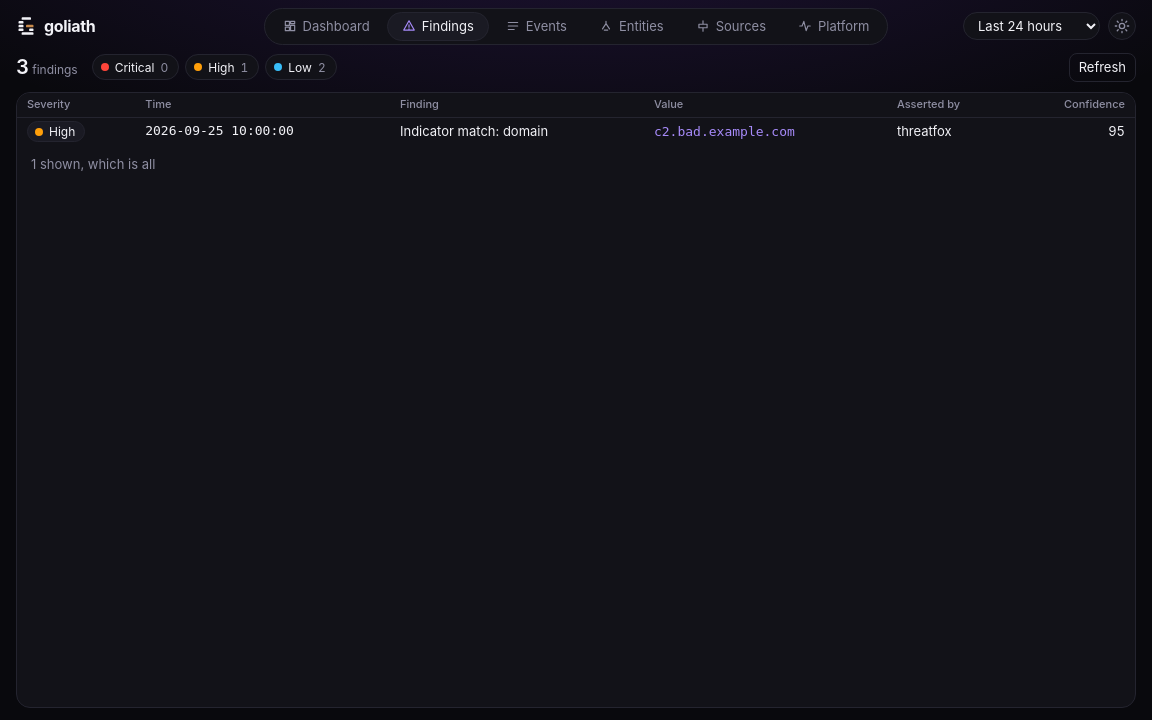
Test case: the queue of findings › asks again for the severities chosen, and for a value from its menu
Click the button "High 1": [222, 67] box [185,54,259,80]
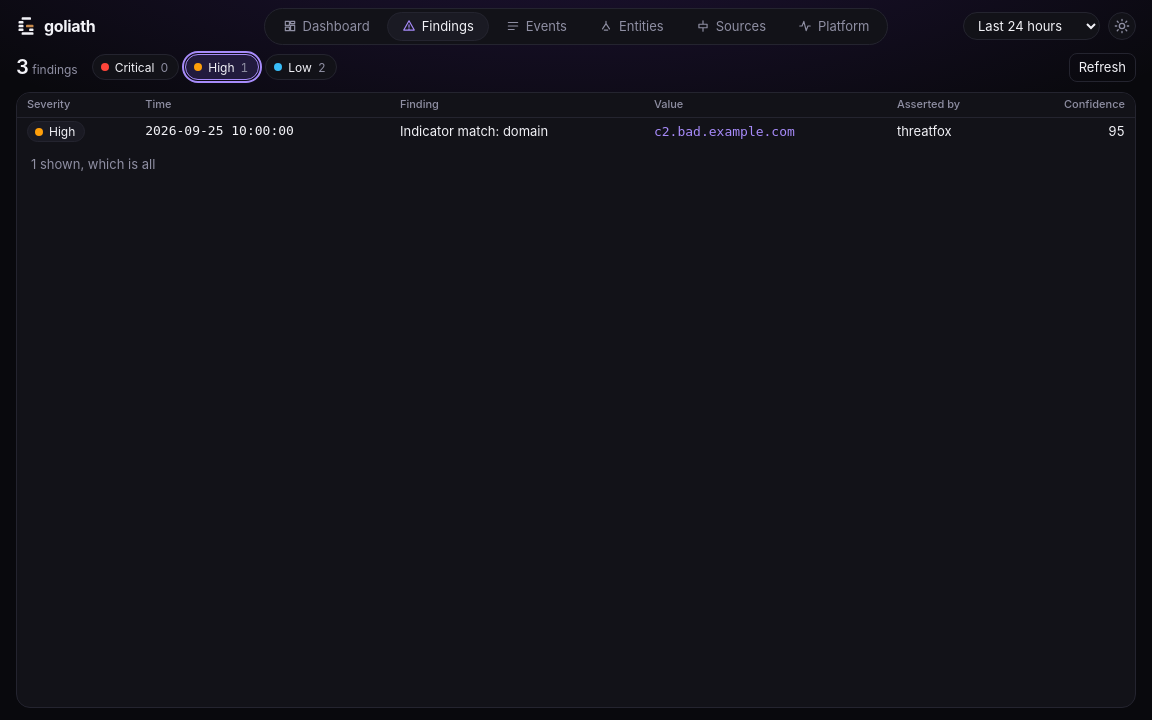
Click the button "c2.bad.example.com": [724, 132] box [650,123,799,141]
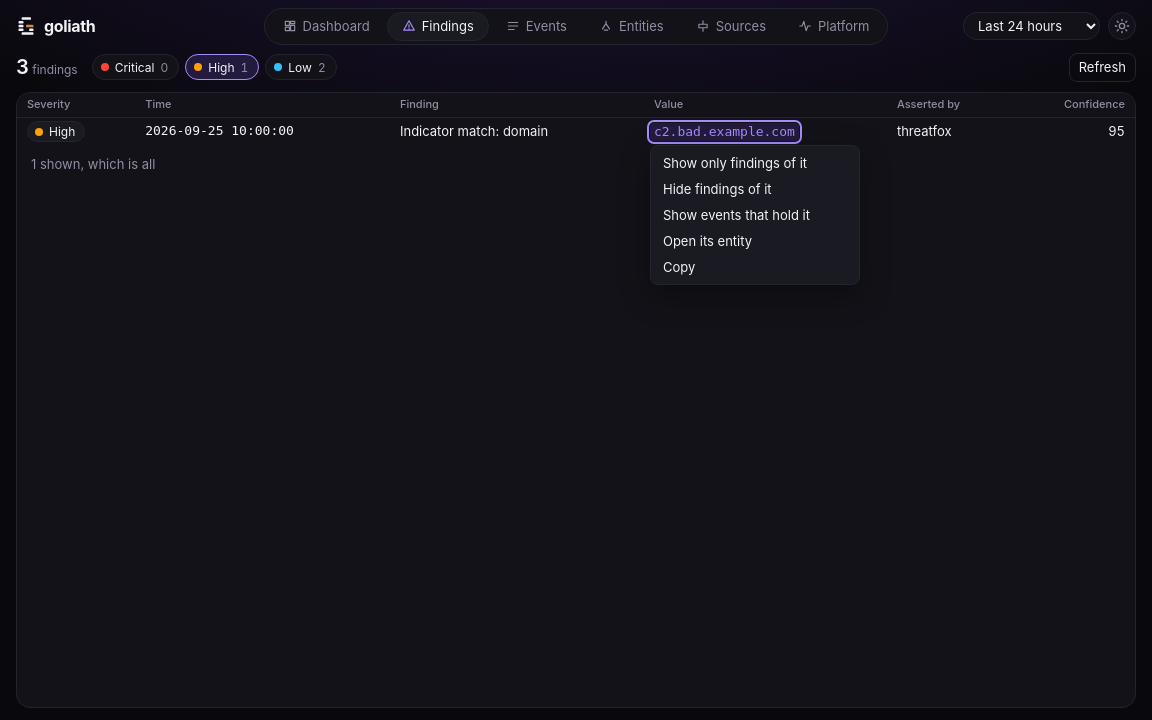
Click the menu item "Show only findings of it": [755, 164] box [655,150,855,176]
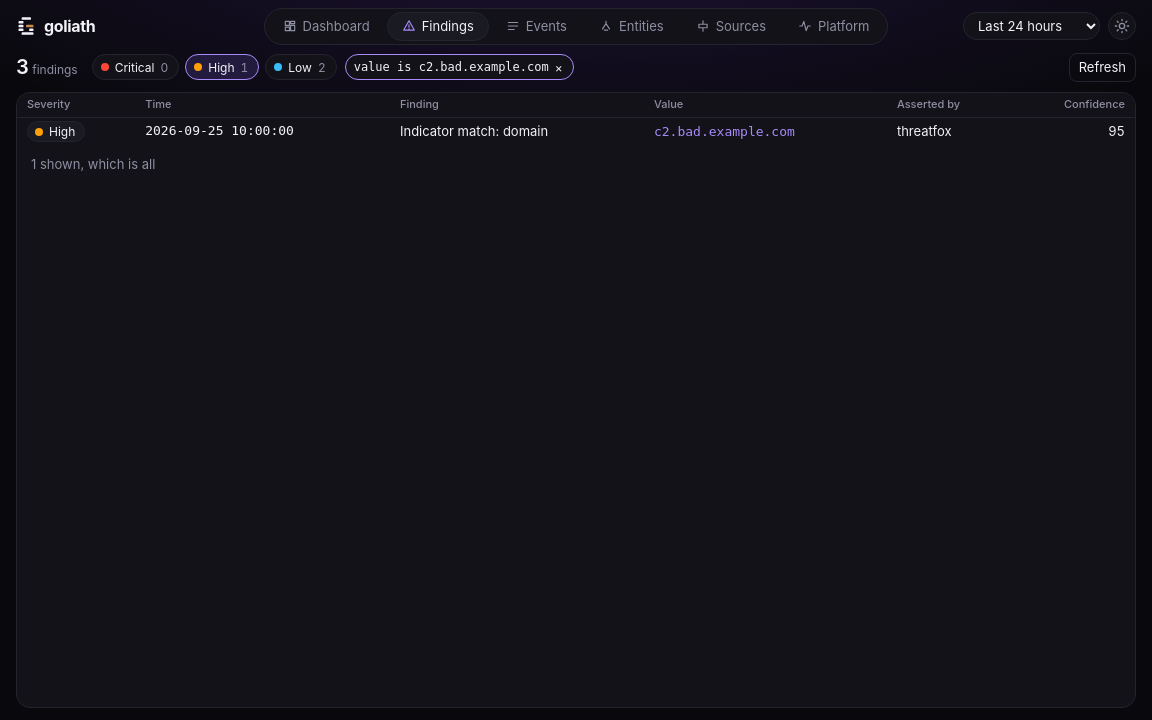
Check: the button titled "Remove this filter" shows "value is c2.bad.example.com", box [345,54,574,80]
